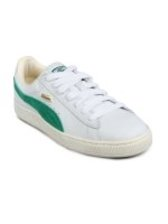shoes: (11, 47, 152, 159)
